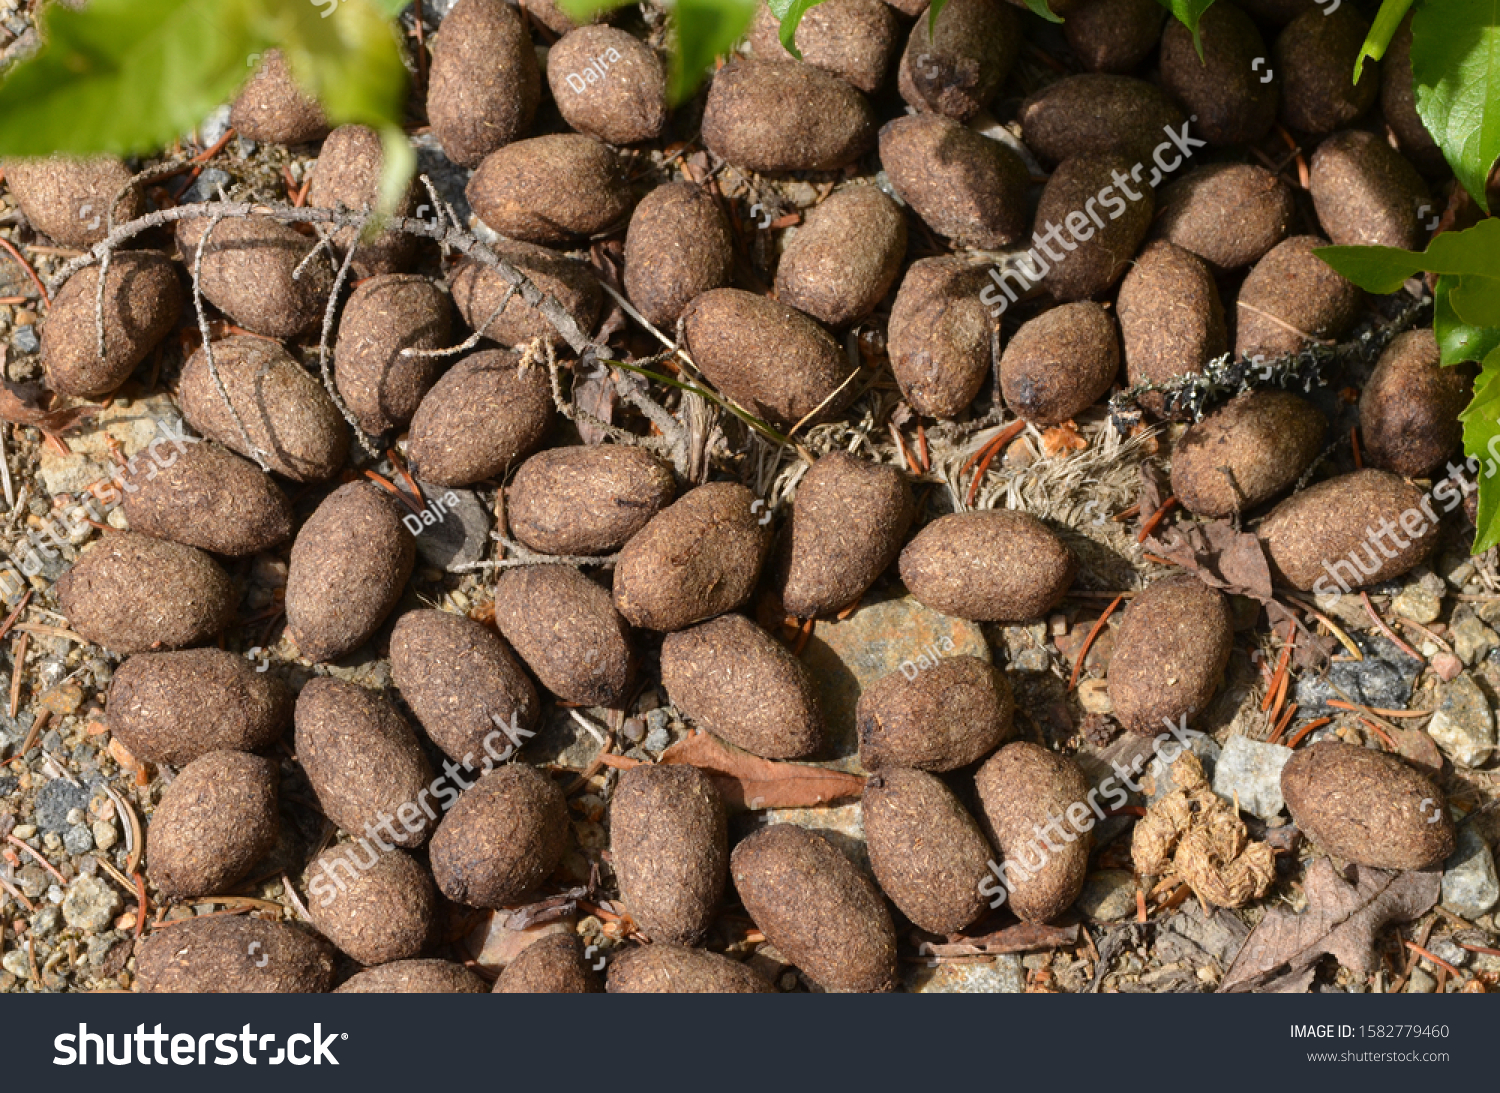Elk: (125, 166, 1423, 870)
